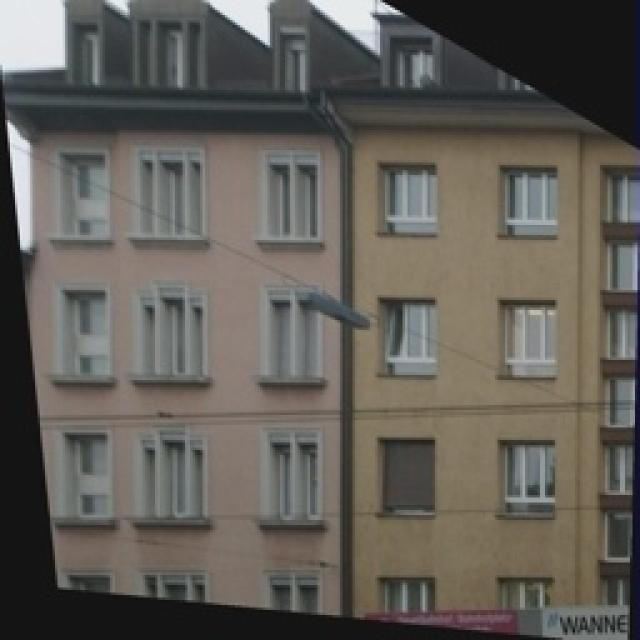Window: (142, 152, 200, 232), (142, 300, 202, 372), (142, 442, 202, 512), (267, 290, 315, 372), (65, 295, 110, 373), (382, 445, 436, 510), (505, 442, 555, 510), (505, 307, 553, 375), (62, 158, 106, 232), (270, 445, 315, 515), (270, 165, 315, 233), (388, 170, 438, 230), (505, 172, 553, 232), (72, 437, 108, 515), (390, 302, 430, 372), (395, 42, 430, 86), (500, 577, 550, 605), (388, 580, 430, 612), (272, 584, 318, 608), (147, 575, 200, 595), (77, 28, 95, 80), (162, 28, 178, 82), (285, 40, 303, 88), (70, 575, 112, 590)
